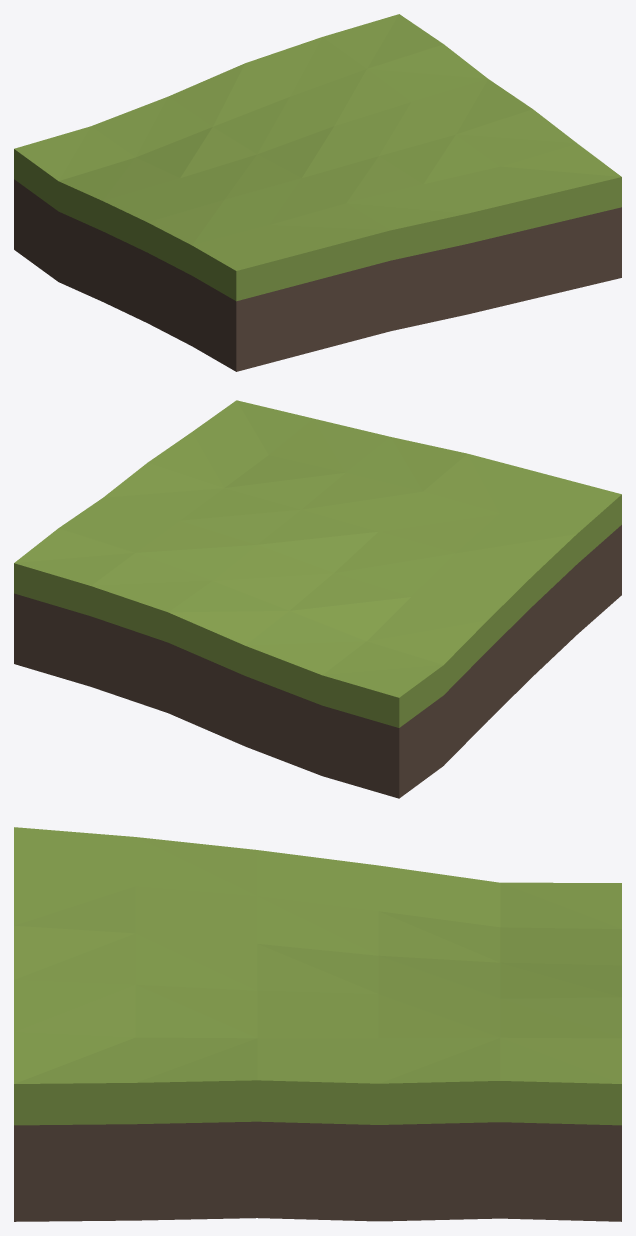
File: terrain-world-valley_01-3.fbx
3 renders of one model, top to bottom at view 1: azimuth 30°, elevation 25°; view 2: azimuth 150°, elevation 25°; view 3: azimuth 270°, elevation 25°, orthographic. The views are drawn at different scales.
Parts seen in each view (by area): view 1: terrain-world-valley_01-3; view 2: terrain-world-valley_01-3; view 3: terrain-world-valley_01-3.
Boxes of the visible parts, x1,y1,x2,y2 form: terrain-world-valley_01-3: (14, 14, 621, 371); terrain-world-valley_01-3: (14, 400, 621, 798); terrain-world-valley_01-3: (14, 827, 621, 1221).
Bounding box in the file's own units: 20 × 20 × 7.17.
